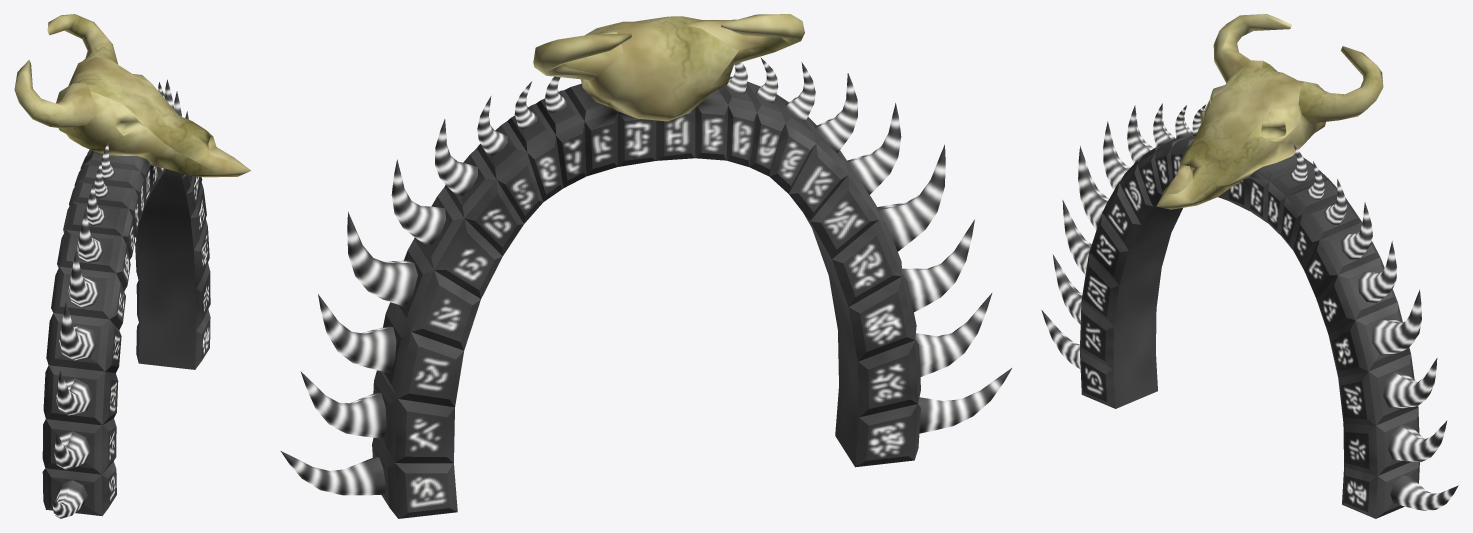
The model's file is LV8GateGeo.fbx.
3 renders of one model, left to right at view 1: azimuth 30°, elevation 25°; view 2: azimuth 150°, elevation 25°; view 3: azimuth 270°, elevation 25°, orthographic. The views are drawn at different scales.
Parts seen in each view (by area): view 1: polySurface95; view 2: polySurface95; view 3: polySurface95.
Part boxes in pixels (<box>): polySurface95: <box>14,14,251,518</box>; polySurface95: <box>280,14,1011,518</box>; polySurface95: <box>1041,14,1458,518</box>.
Bounding box in the file's own units: 37.8 × 38.64 × 37.86.
